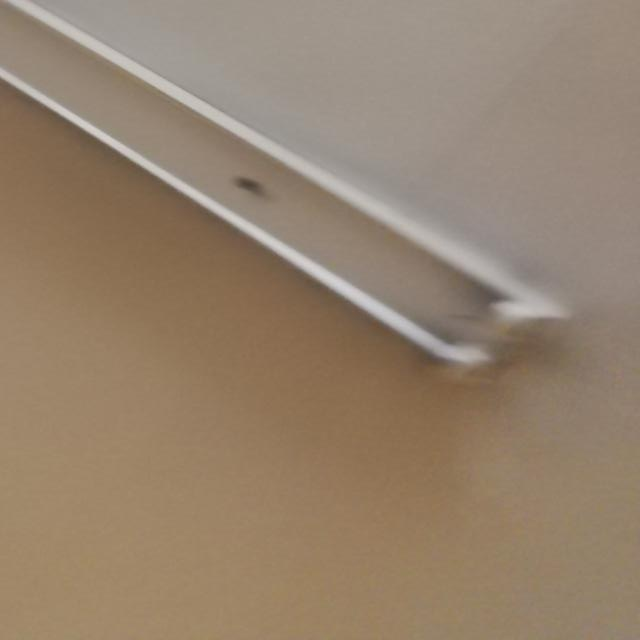fluorescent tube: (0, 0, 591, 418)
